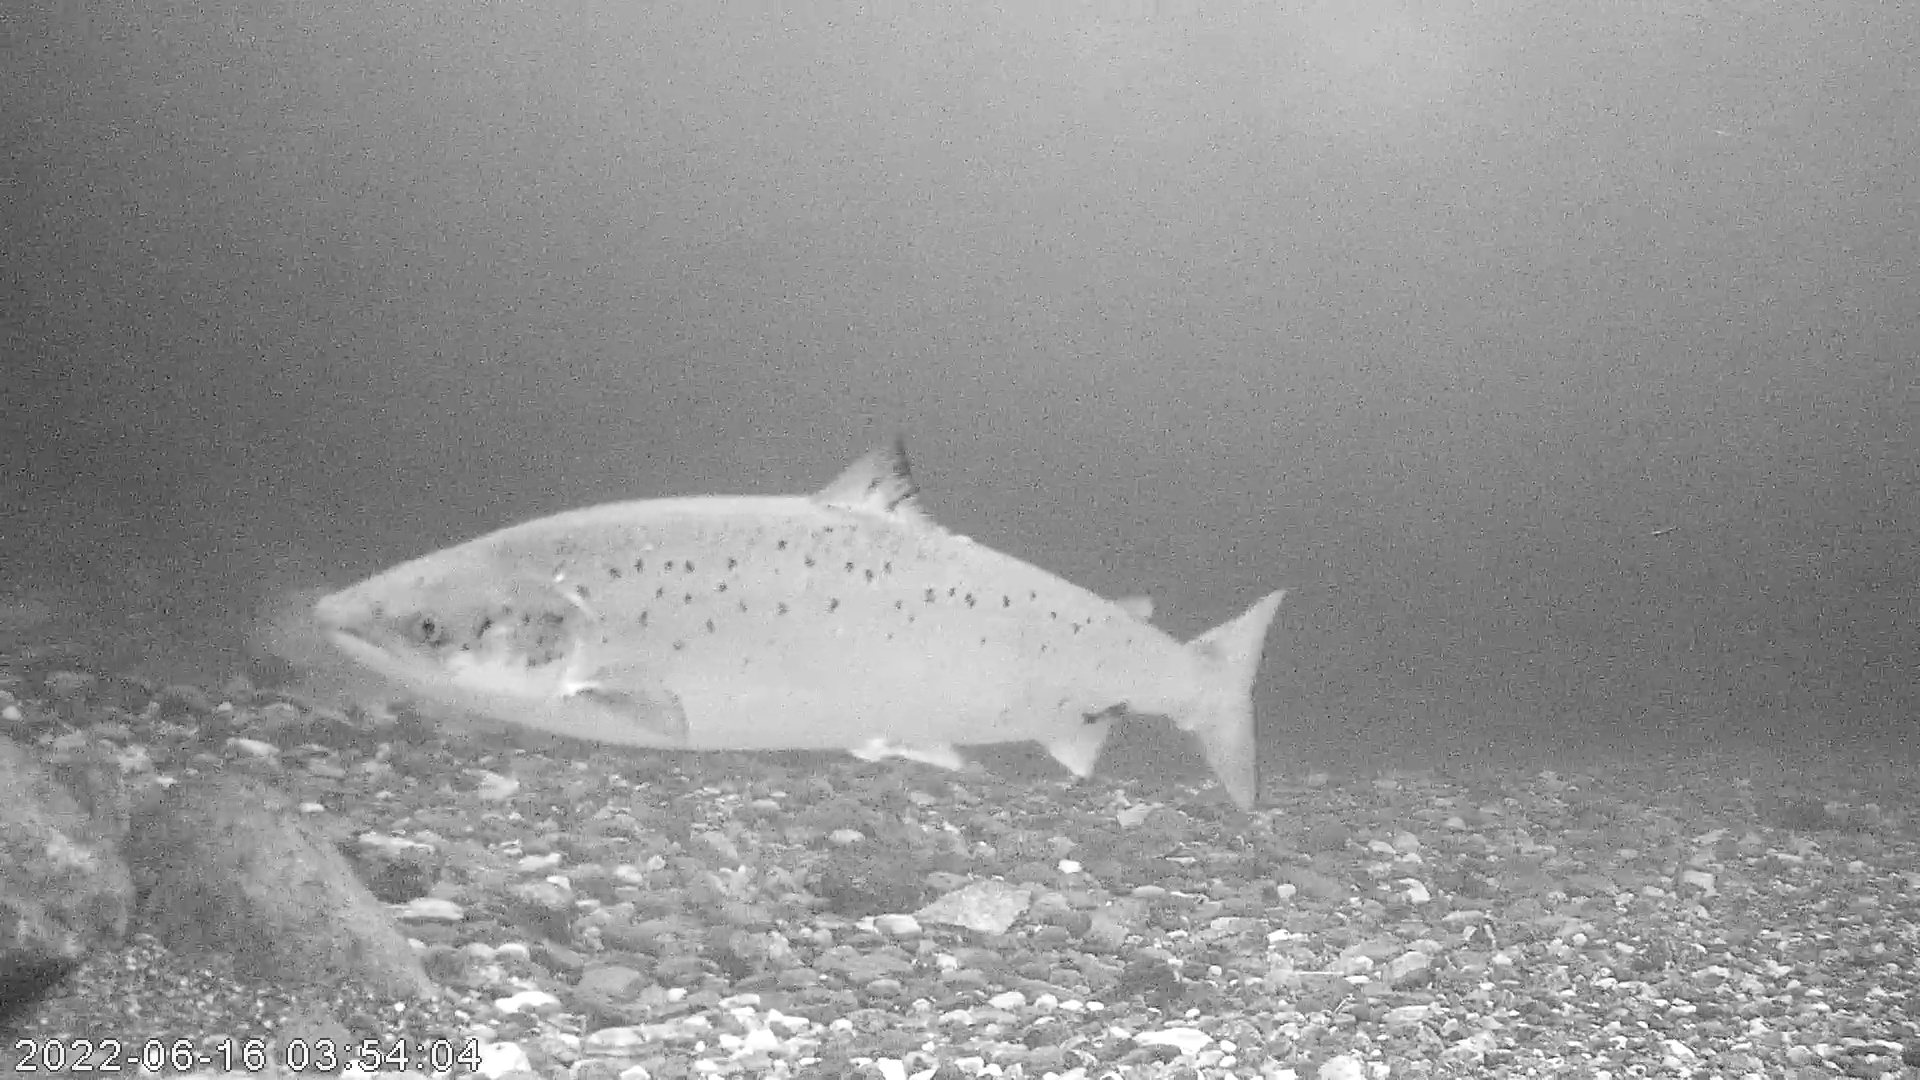salmon: (310, 433, 1291, 814)
